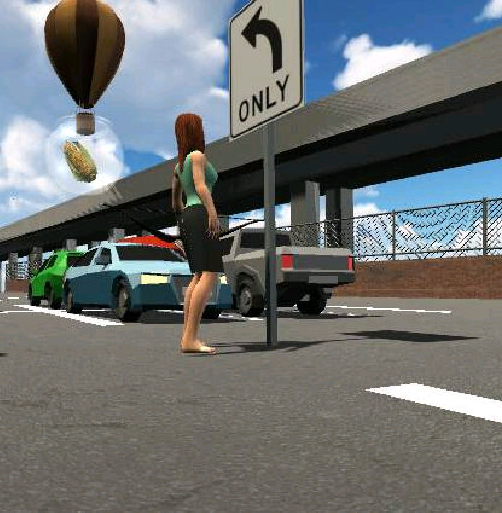arrow_left: (237, 8, 292, 73)
